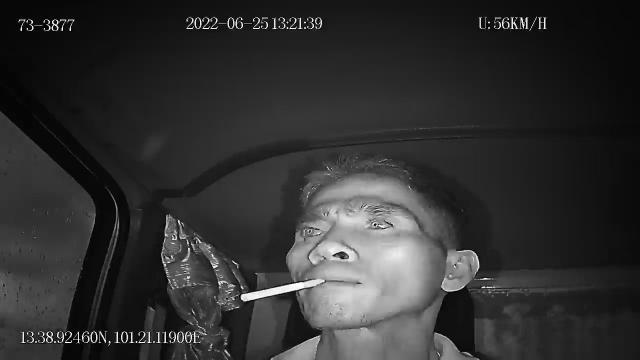SafeDriving: (357, 211, 400, 236), (292, 216, 330, 242)
Smoking: (240, 278, 326, 302)
